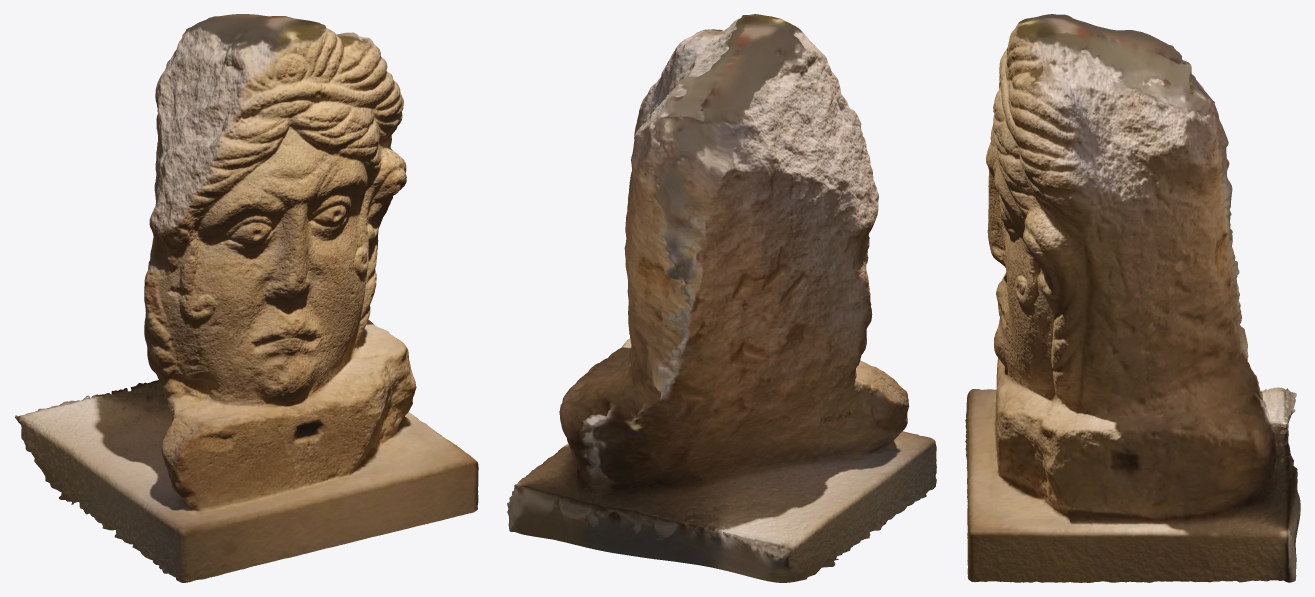
The model's file is preview.glb.
3 renders of one model, left to right at view 1: azimuth 30°, elevation 25°; view 2: azimuth 150°, elevation 25°; view 3: azimuth 270°, elevation 25°, orthographic. The views are drawn at different scales.
Visible parts, largest first — view 1: Object_2; view 2: Object_2; view 3: Object_2.
Boxes of the visible parts, left/top/right/bottom form: Object_2: left=15, top=14, right=478, bottom=582; Object_2: left=507, top=14, right=936, bottom=582; Object_2: left=965, top=14, right=1300, bottom=582.
Size of the model in its own units: 5.44 by 8.32 by 5.2.
1 material, 1 textured.
